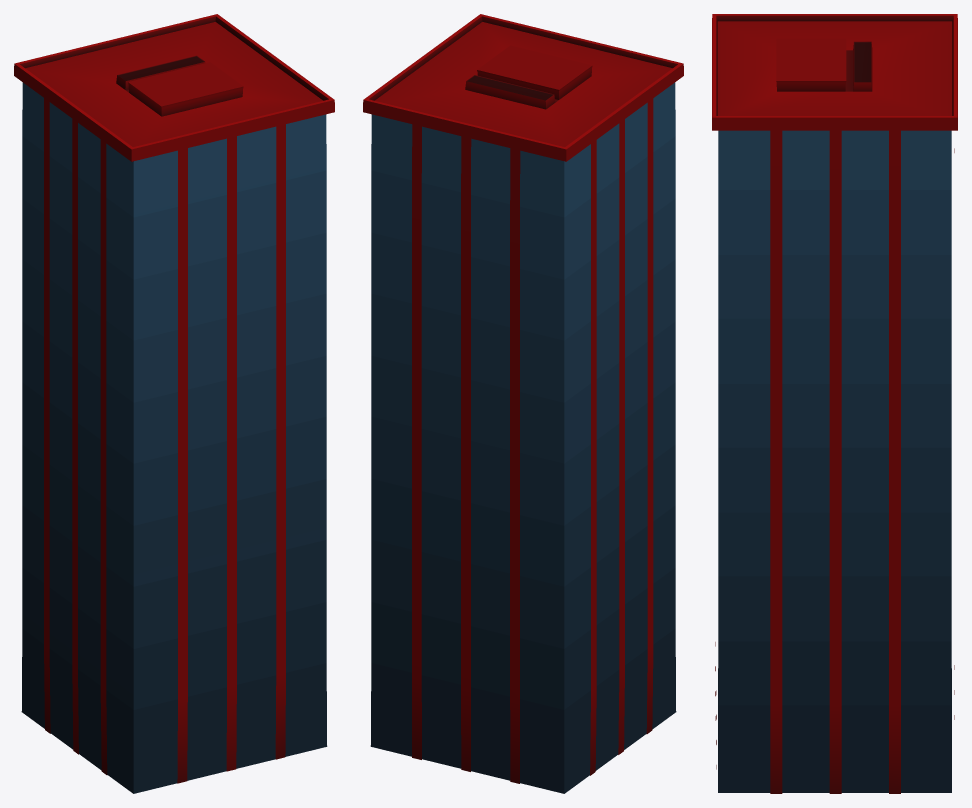
File: buildings-industrial-traditionalskyscraper_v3.fbx
3 renders of one model, left to right at view 1: azimuth 30°, elevation 25°; view 2: azimuth 150°, elevation 25°; view 3: azimuth 270°, elevation 25°, orthographic. The views are drawn at different scales.
Parts seen in each view (by area): view 1: TraditionalSkyscraper_v3_windowRefl, TraditionalSkyscraper_v3_base; view 2: TraditionalSkyscraper_v3_windowRefl, TraditionalSkyscraper_v3_base; view 3: TraditionalSkyscraper_v3_windowRefl, TraditionalSkyscraper_v3_base.
Part boxes in pixels (bbox=[...]): TraditionalSkyscraper_v3_windowRefl: bbox=[21, 82, 327, 793]; TraditionalSkyscraper_v3_base: bbox=[14, 14, 334, 783]; TraditionalSkyscraper_v3_windowRefl: bbox=[370, 82, 676, 793]; TraditionalSkyscraper_v3_base: bbox=[363, 14, 683, 783]; TraditionalSkyscraper_v3_windowRefl: bbox=[718, 130, 951, 792]; TraditionalSkyscraper_v3_base: bbox=[712, 14, 957, 793].
Size of the model in its own units: 21.78 by 66.86 by 21.78.
